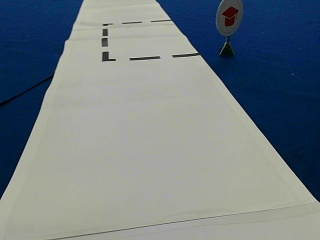school: (215, 1, 243, 35)
